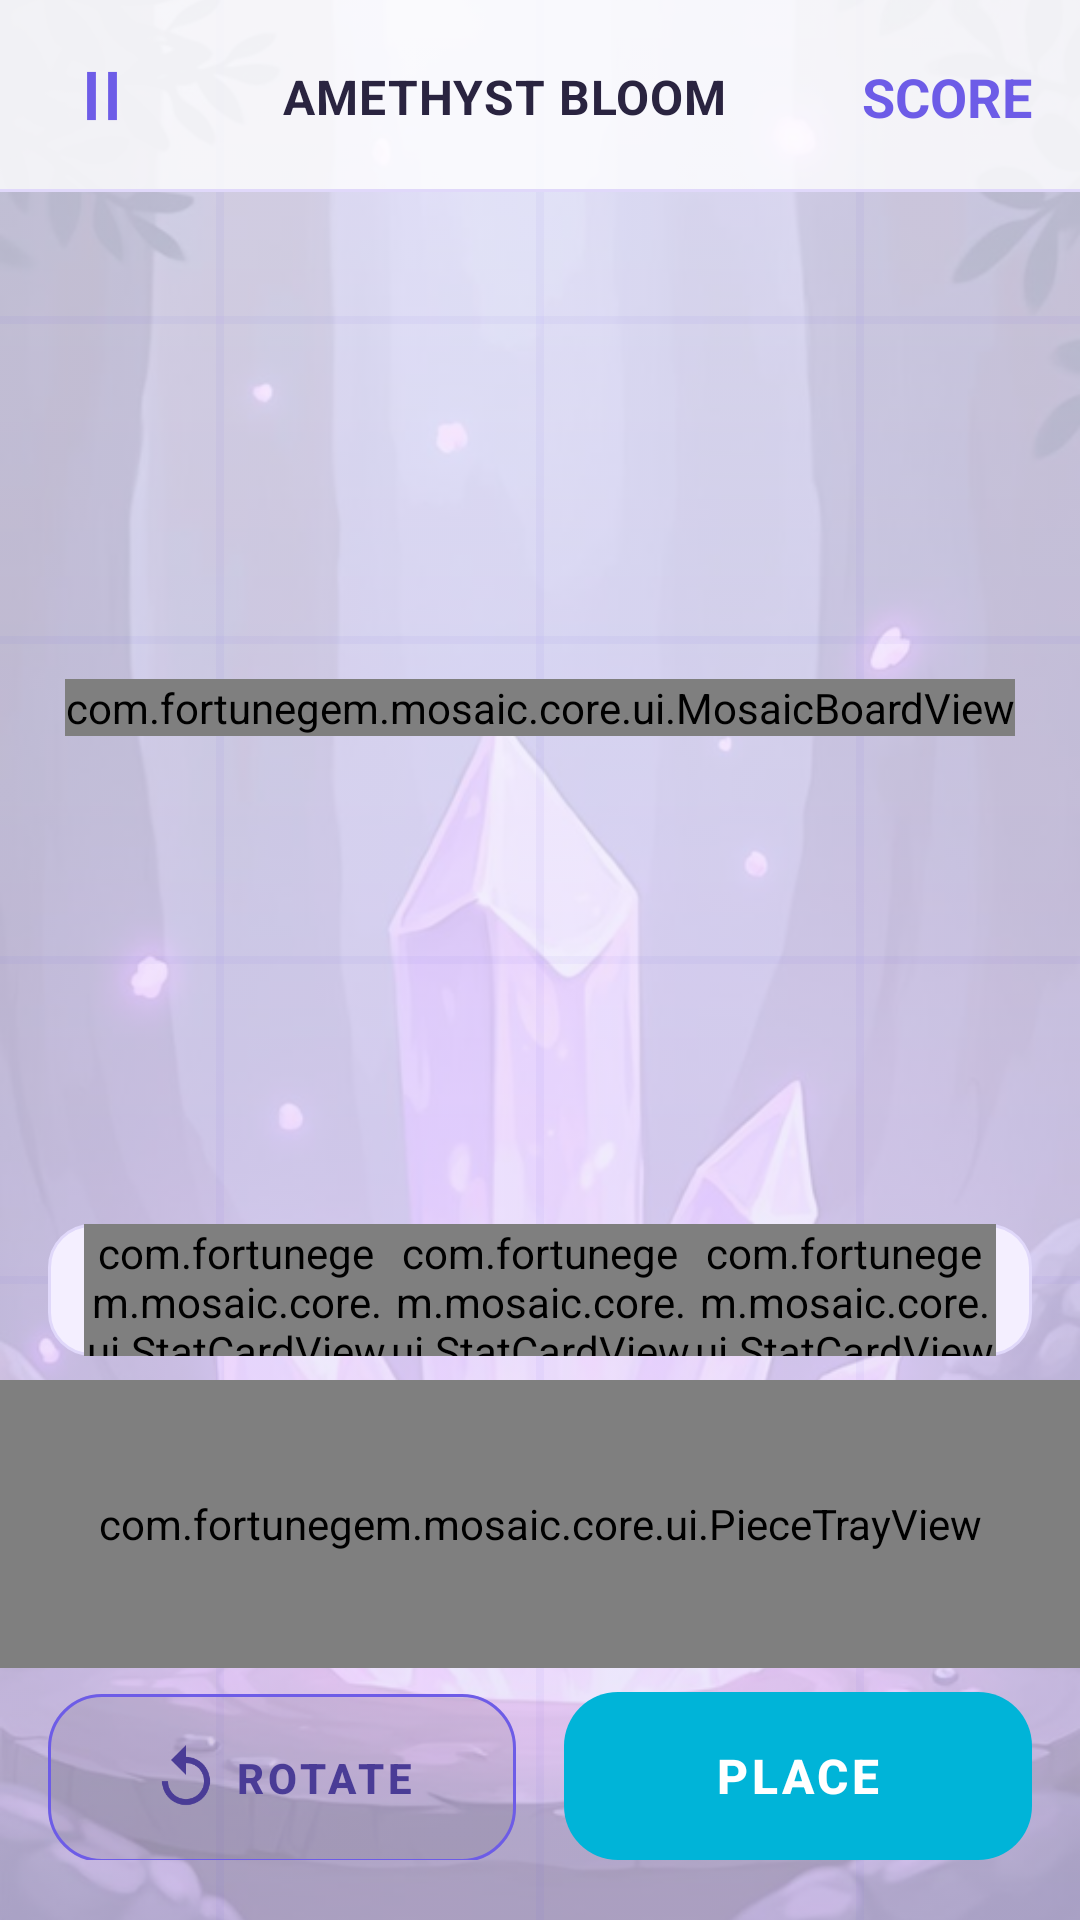

Screen size 1080px×1920px. Icon name, then its center in pixels as [x,y]:
Pause the workshop: [102,96]
